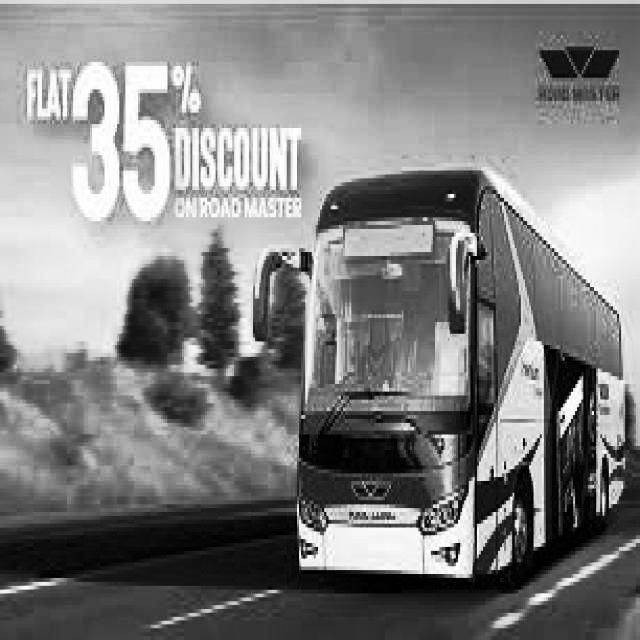Bus: (300, 144, 634, 601)
